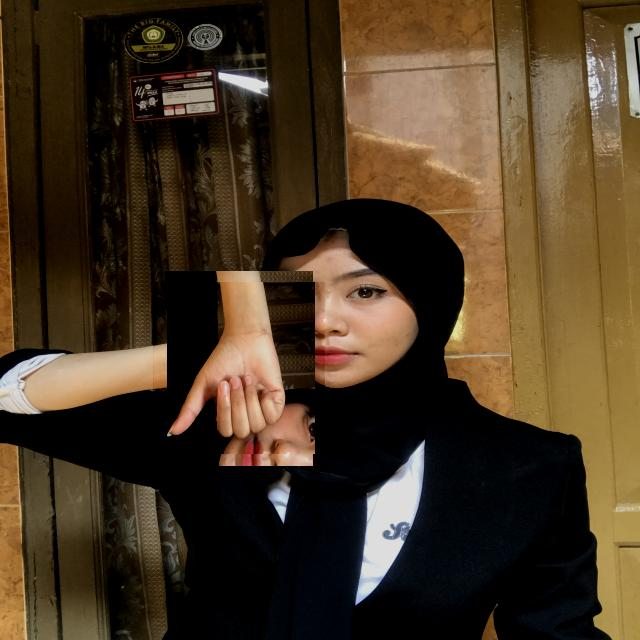sedih: (153, 282, 324, 454)
